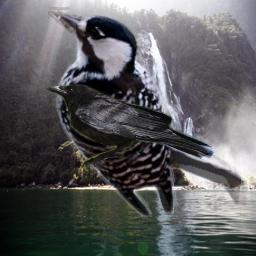Crow: (45, 83, 215, 170)
Woodpecker: (48, 7, 247, 217)
